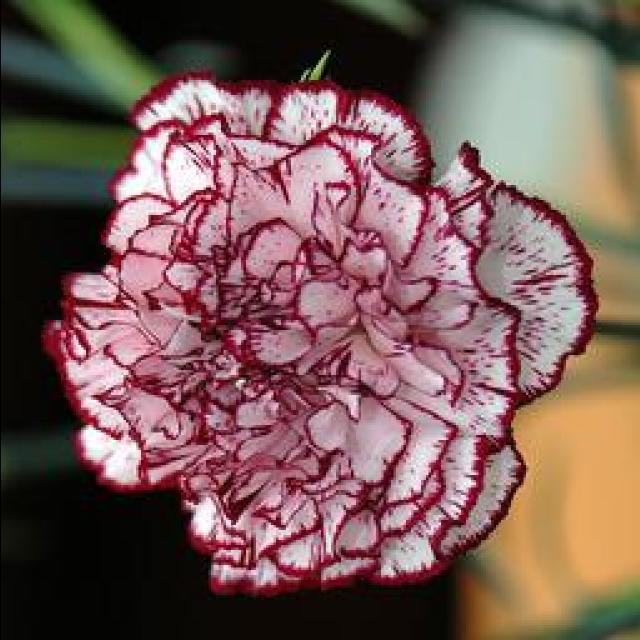carnation: (46, 56, 603, 634)
